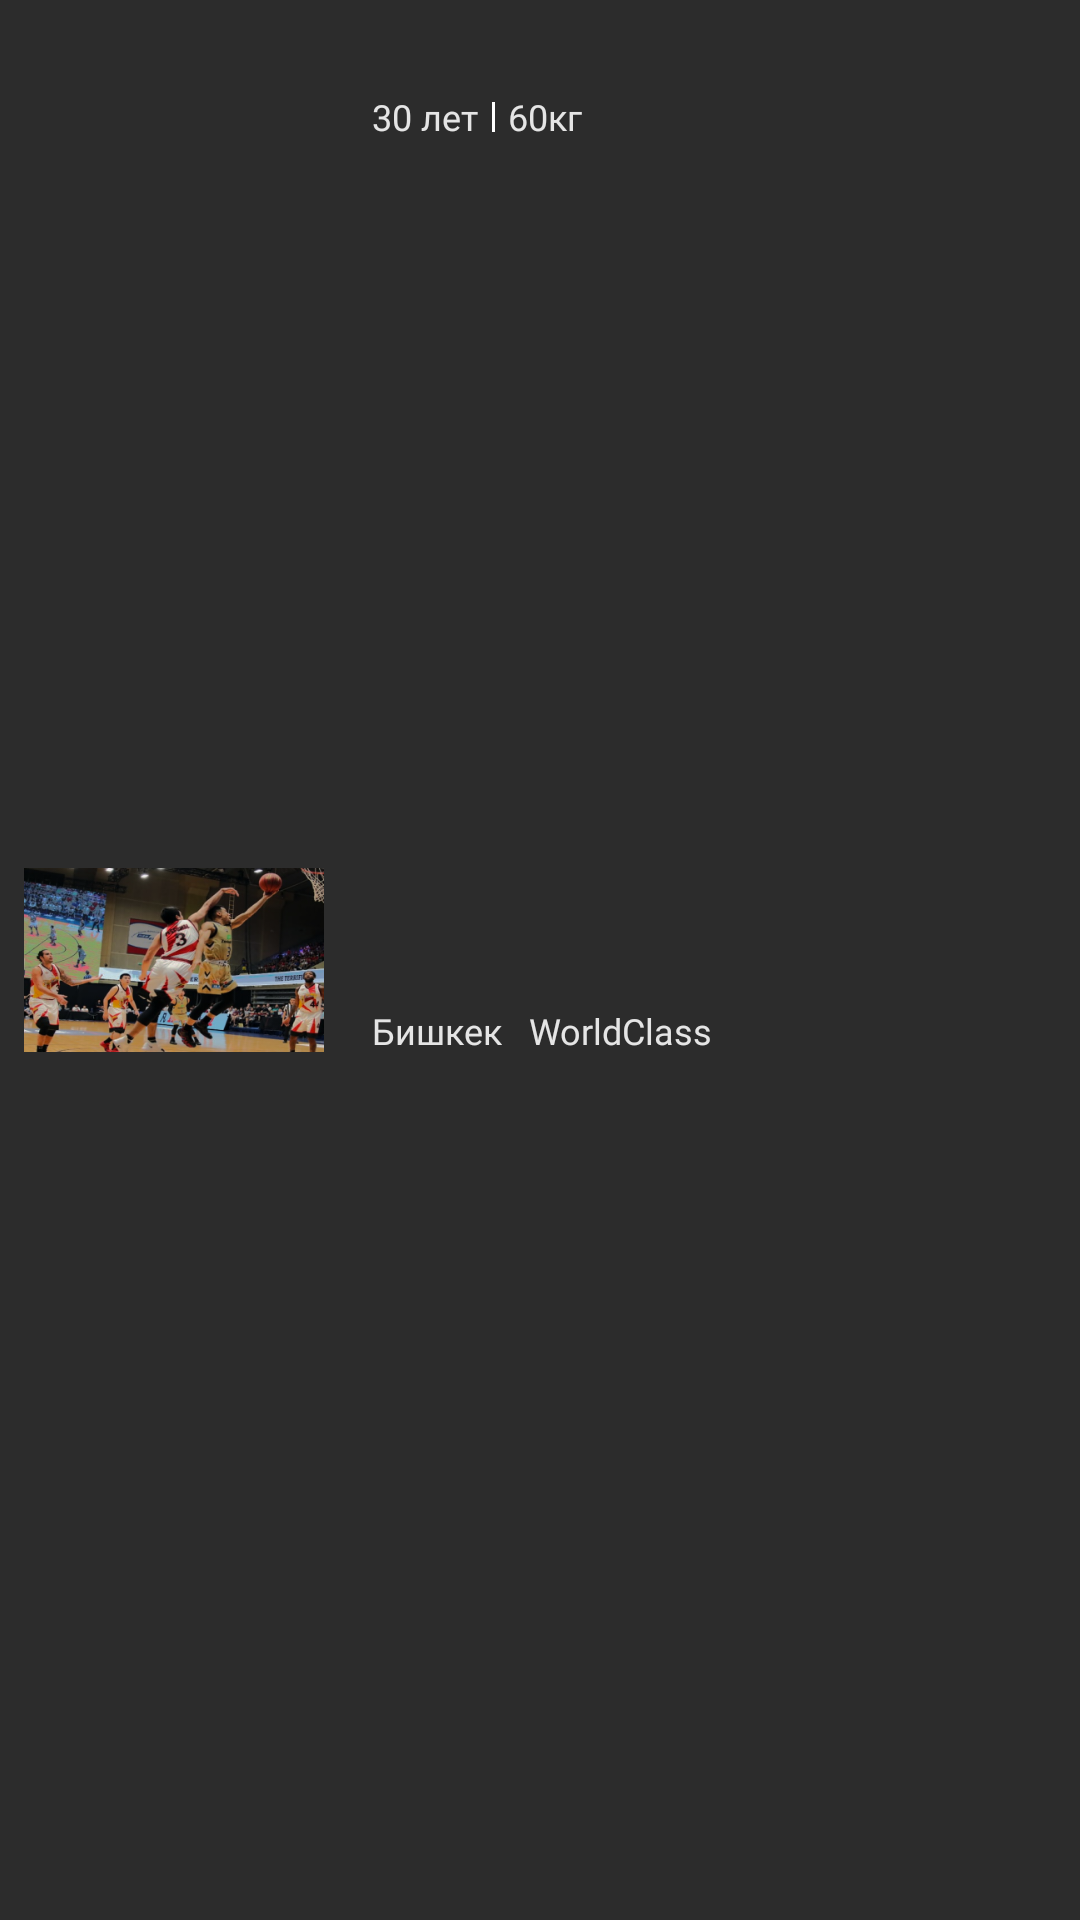

Locate icon controls on the screen. Image size 1080*1920, boxes as [x1, y1, x2, y2].
photo: [24, 868, 324, 1052]
